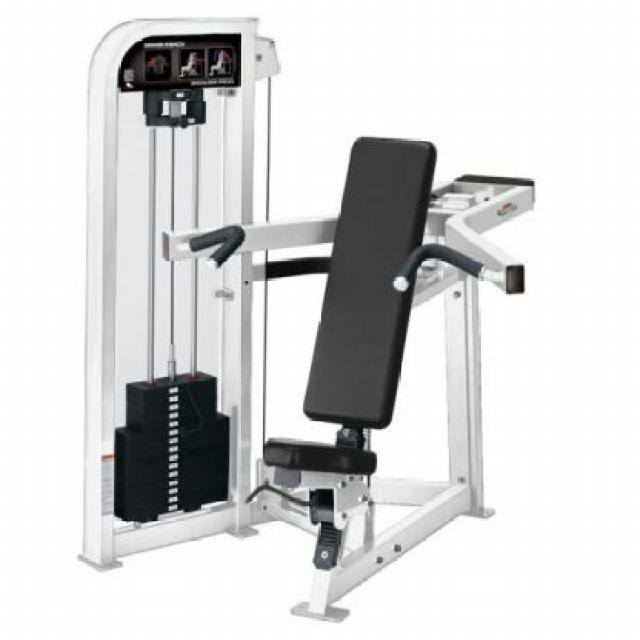shoulder press machine: (78, 12, 544, 623)
